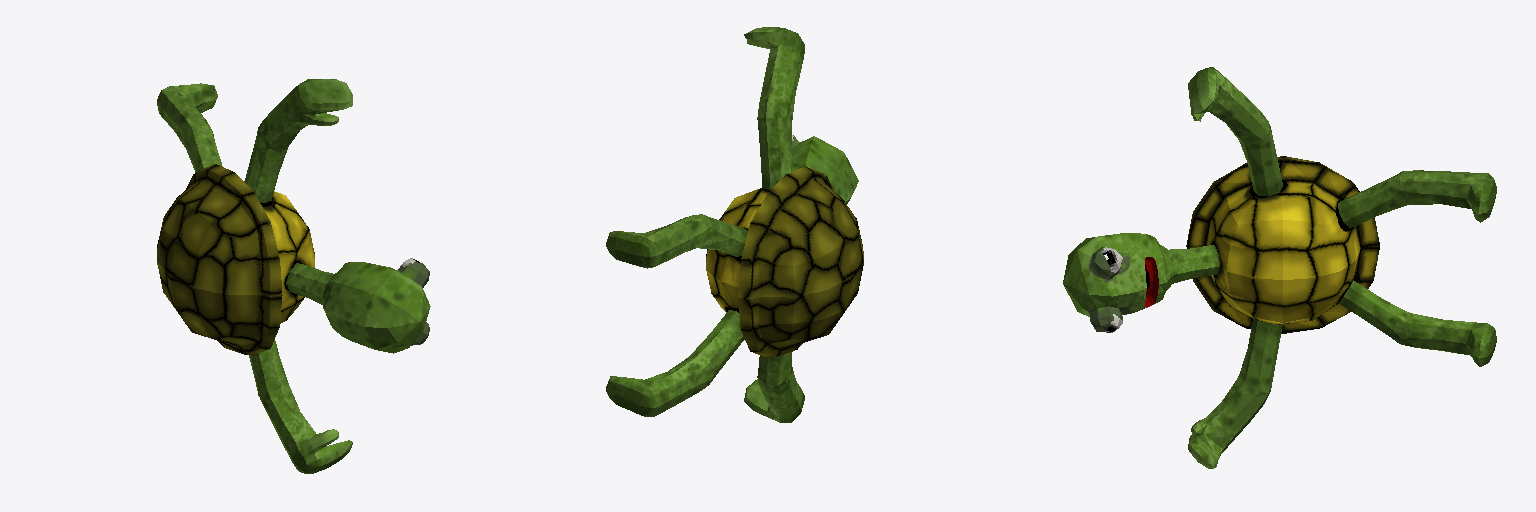
The picture shows the model from 3 angles: view 1: azimuth 30°, elevation 25°; view 2: azimuth 150°, elevation 25°; view 3: azimuth 270°, elevation 25°; orthographic projection.
Parts seen in each view (by area): view 1: Cube1; view 2: Cube1; view 3: Cube1.
Boxes of the visible parts, box(x1,y1,x2,y2) form: Cube1: box(157, 79, 430, 473); Cube1: box(606, 27, 863, 422); Cube1: box(1063, 67, 1496, 468).
Size of the model in its own units: 2.21 by 4.91 by 4.91.
Materials: 1 (1 with a texture image).